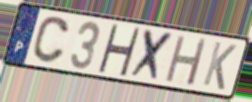3: (70, 20, 101, 70)
C: (30, 15, 71, 65)
H: (163, 33, 210, 88), (96, 22, 142, 78)
K: (200, 39, 238, 92)
X: (128, 27, 177, 84)
